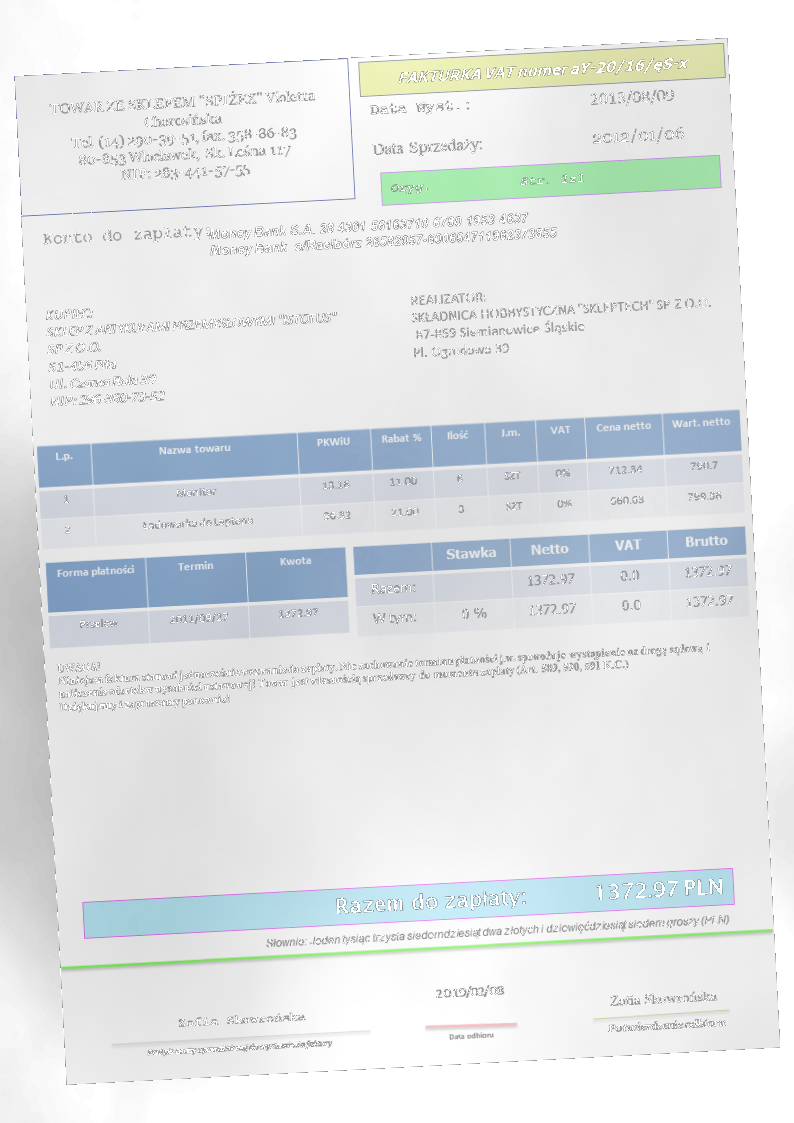Table: (35, 406, 748, 551), (351, 524, 752, 640), (44, 545, 352, 651)
TextBox: (52, 623, 717, 717), (41, 291, 345, 414), (42, 83, 325, 193), (404, 274, 717, 364), (329, 868, 726, 922), (262, 909, 732, 952), (204, 207, 560, 259), (394, 49, 696, 88), (387, 165, 589, 197), (38, 221, 212, 251), (144, 1036, 336, 1058), (367, 133, 484, 160), (175, 1007, 309, 1030), (365, 93, 474, 120), (607, 986, 724, 1010), (587, 121, 687, 148), (587, 82, 679, 110), (603, 1016, 729, 1035), (432, 980, 508, 1002), (445, 1026, 497, 1046)
